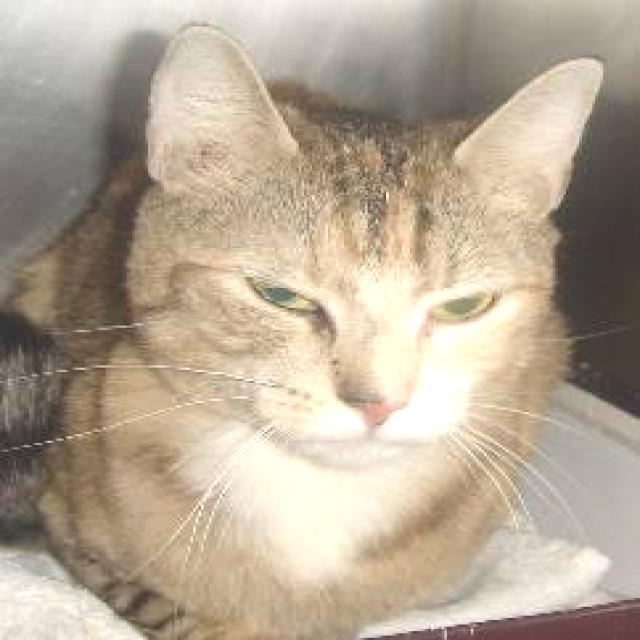Kucing: (28, 1, 640, 632)
